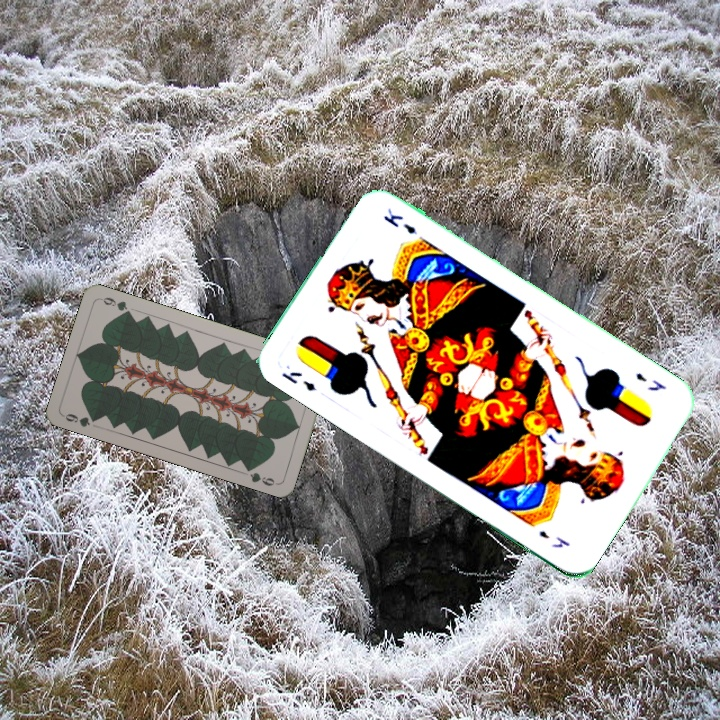EK: (277, 367, 319, 394), (631, 368, 669, 394)
G9: (60, 409, 101, 430)
